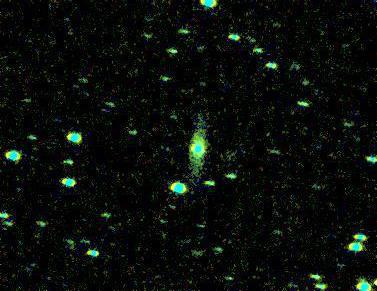star: (362, 267, 377, 291)
